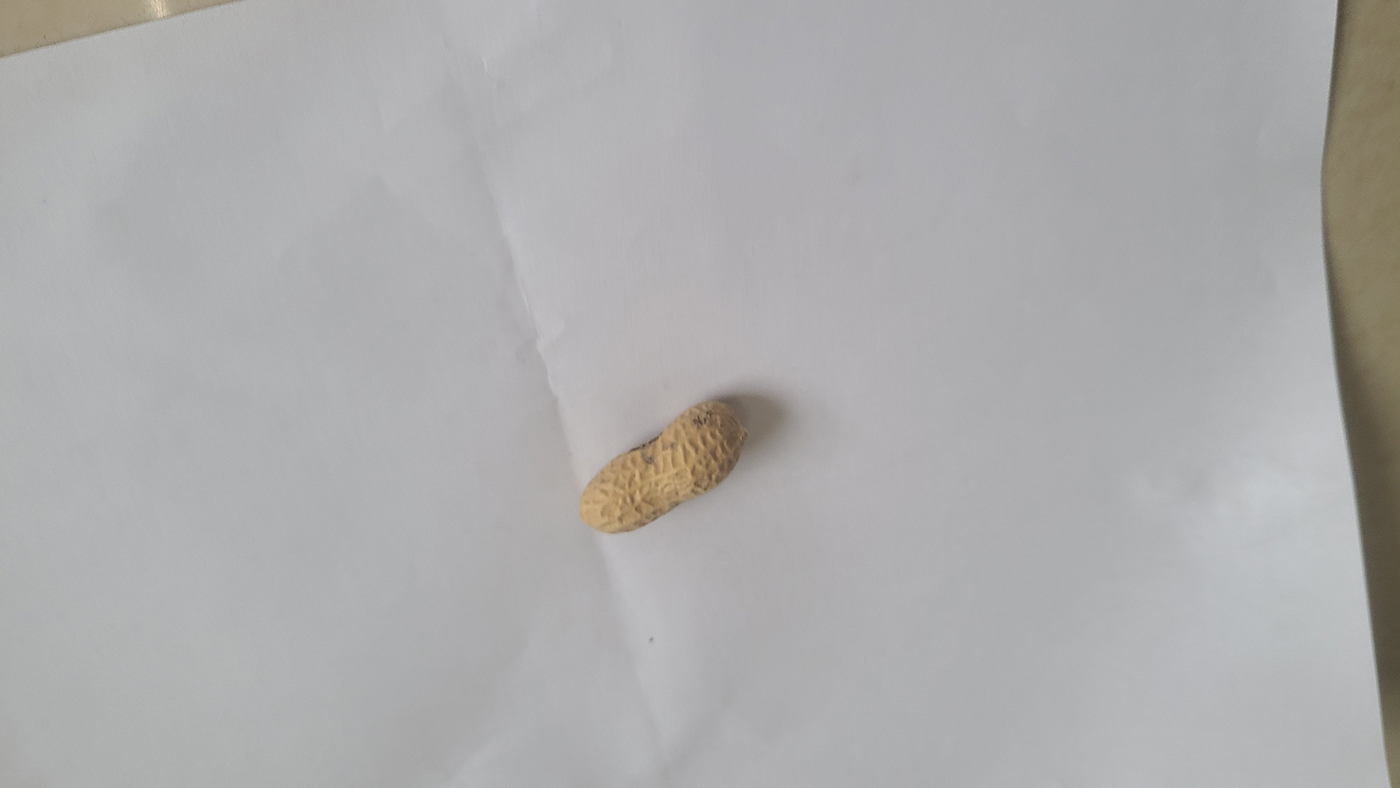h: (576, 395, 746, 535)
